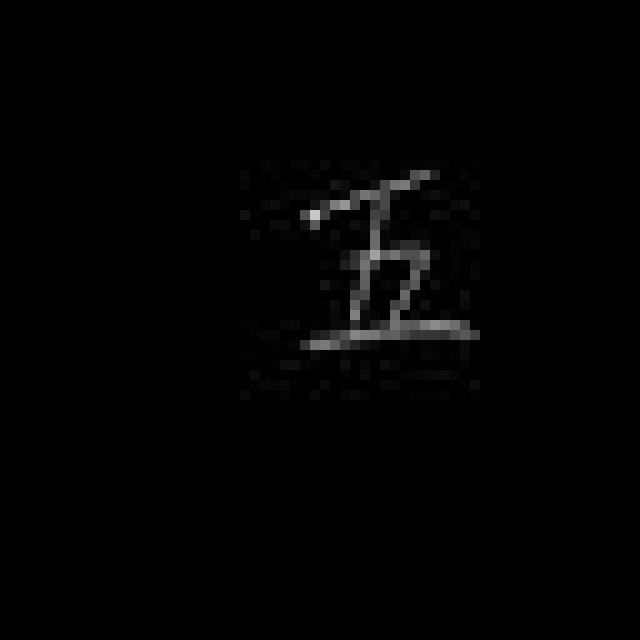5 -five-: (298, 159, 474, 360)
